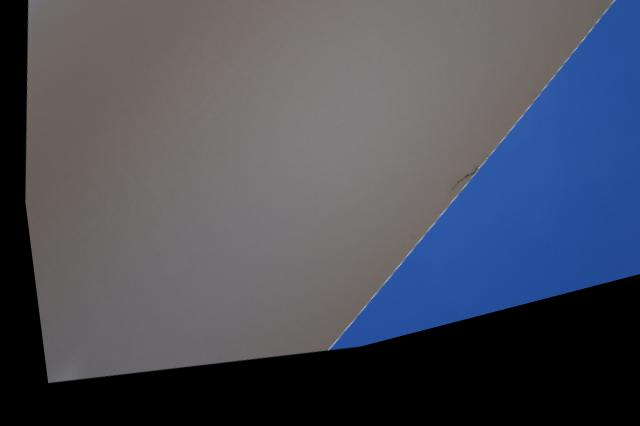damage: (438, 183, 474, 216)
